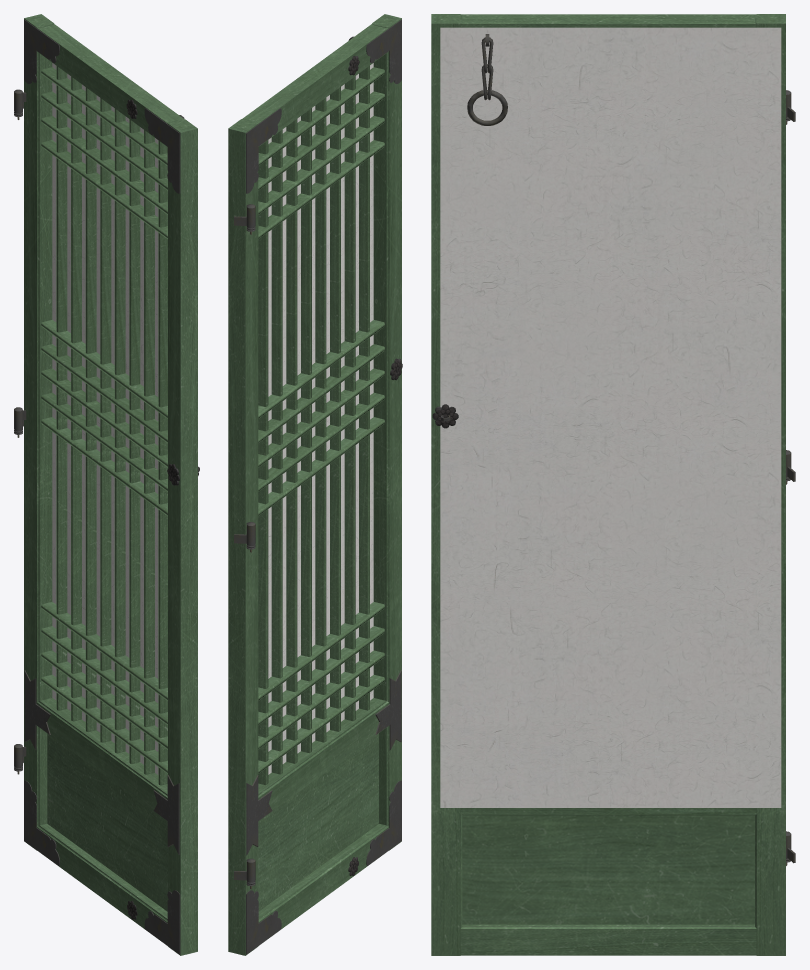
File: SM_Door09B.fbx
3 views of the same model, side by side, from view 1: azimuth 30°, elevation 25°; view 2: azimuth 150°, elevation 25°; view 3: azimuth 270°, elevation 25° (orthographic). The views are drawn at different scales.
Visible parts, largest first — view 1: SM_Door09B; view 2: SM_Door09B; view 3: SM_Door09B.
Boxes of the visible parts, left/top/right/bottom form: SM_Door09B: left=14, top=14, right=199, bottom=955; SM_Door09B: left=228, top=14, right=402, bottom=955; SM_Door09B: left=431, top=14, right=795, bottom=955.
Size of the model in its own units: 12.05 by 88.52 by 250.
